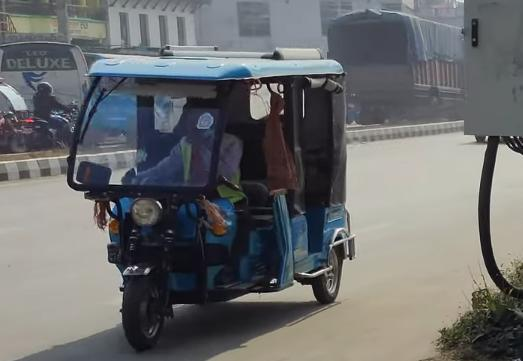e-rickshaw: (64, 37, 357, 357)
truck: (322, 9, 468, 121)
